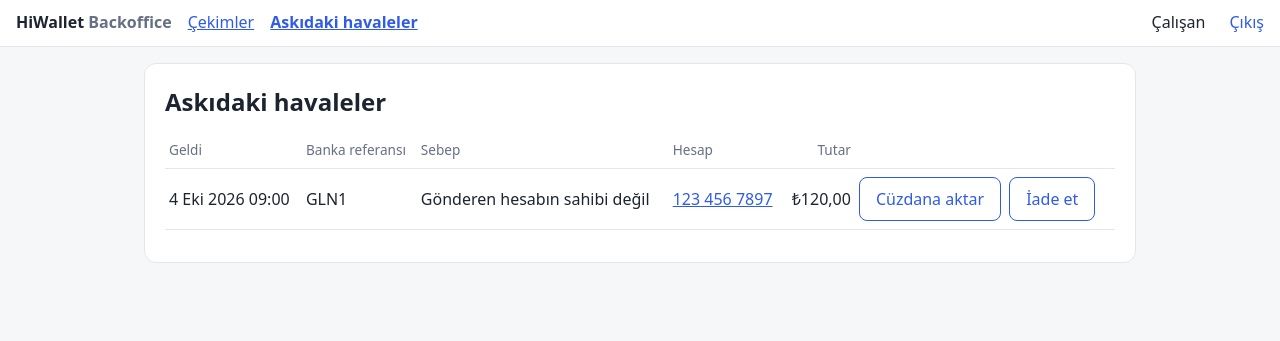
Test: SuspendedDepositsPage › izinli çalışan havaleyi hesabın cüzdanına aktarıyor
Click the button "Cüzdana aktar" at (930, 199), box [859,177,1001,221]
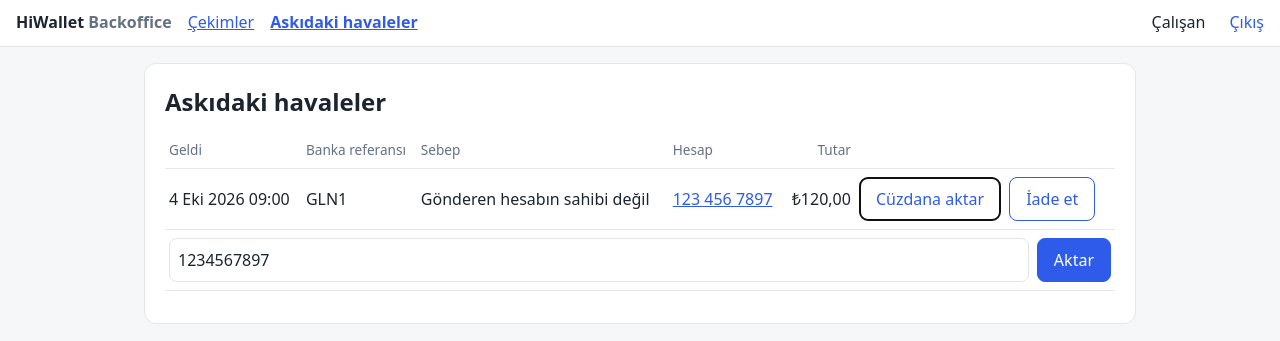
Result: the field named "Hesap numarası" holds "1234567897"
Replace the text in the field named "Hesap numarası" with "987 654 3210" at (599, 260), box [169,238,1029,282]
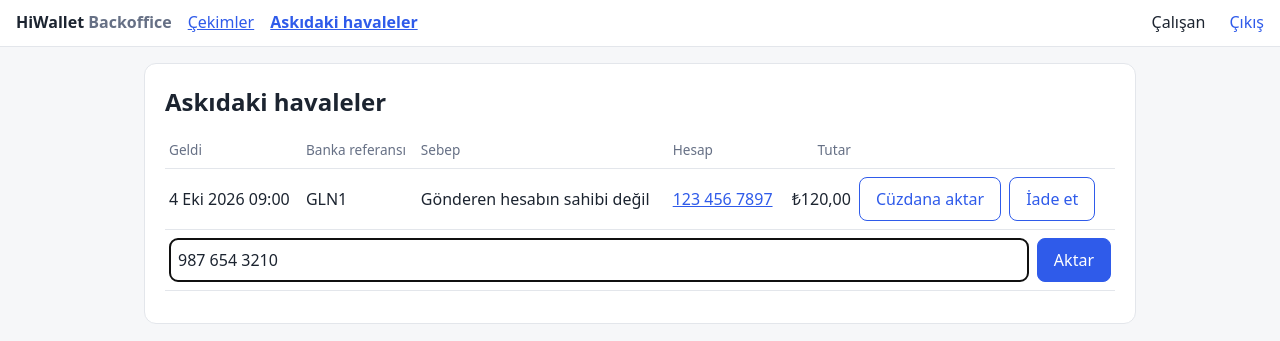
Click the button "Aktar" at (1074, 260), box [1037,238,1111,282]
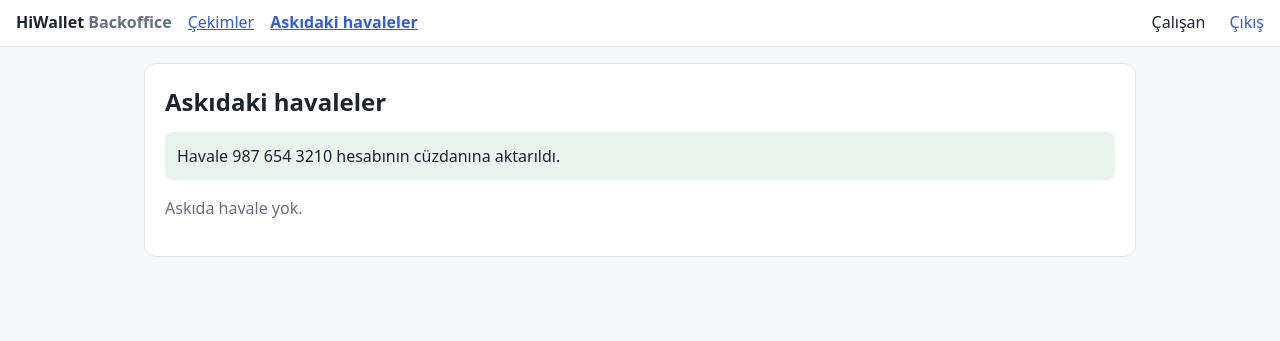
Result: the text "Havale 987 654 3210 hesabının cüzdanına aktarıldı." is shown at [165,132,1115,180]
Result: the text "Askıda havale yok." is shown at [165,197,302,219]
